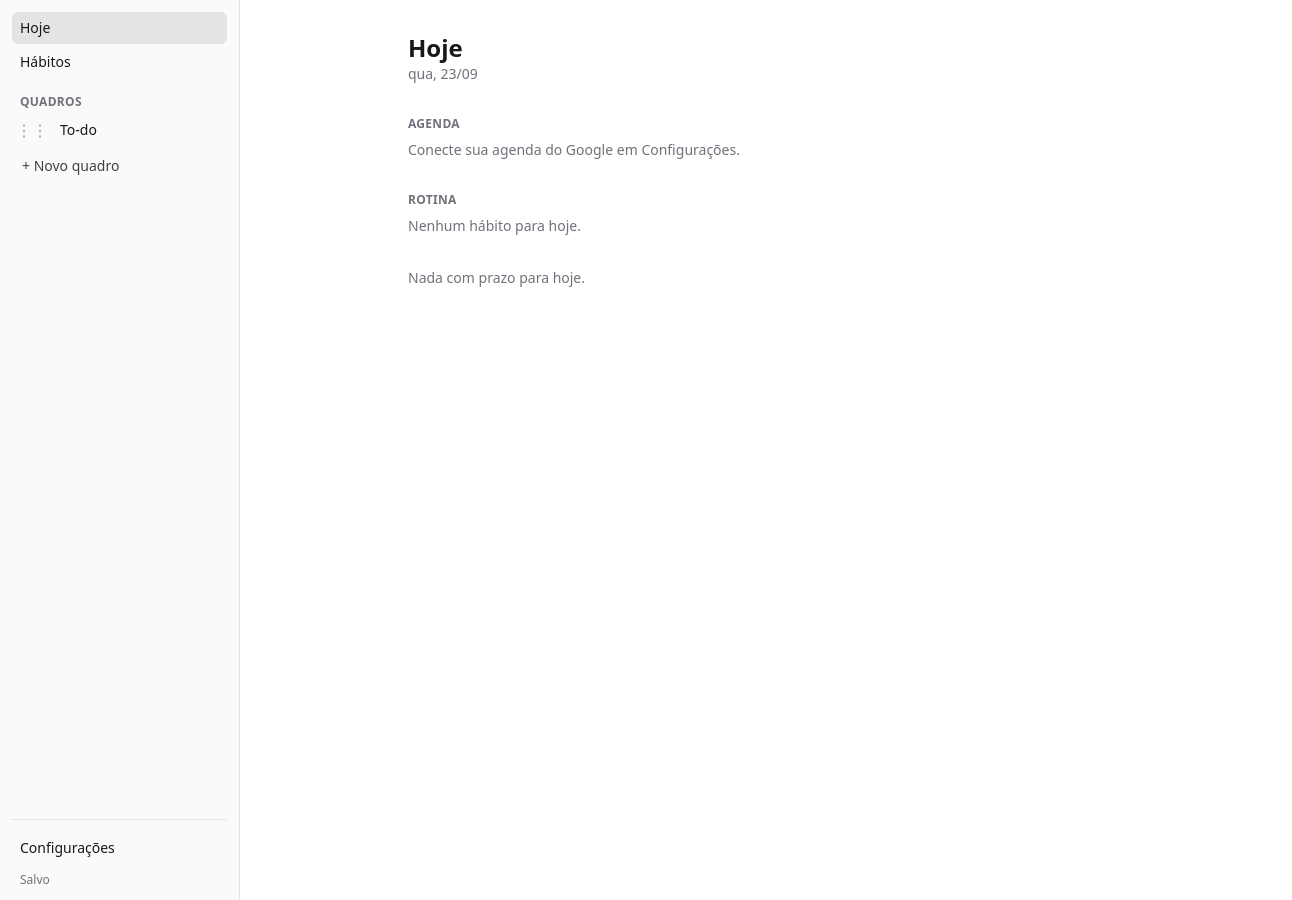
Shell › cria um quadro pela barra lateral e abre
The image size is (1292, 900).
Click the button "+ Novo quadro": (120, 166) [12,150,227,182]
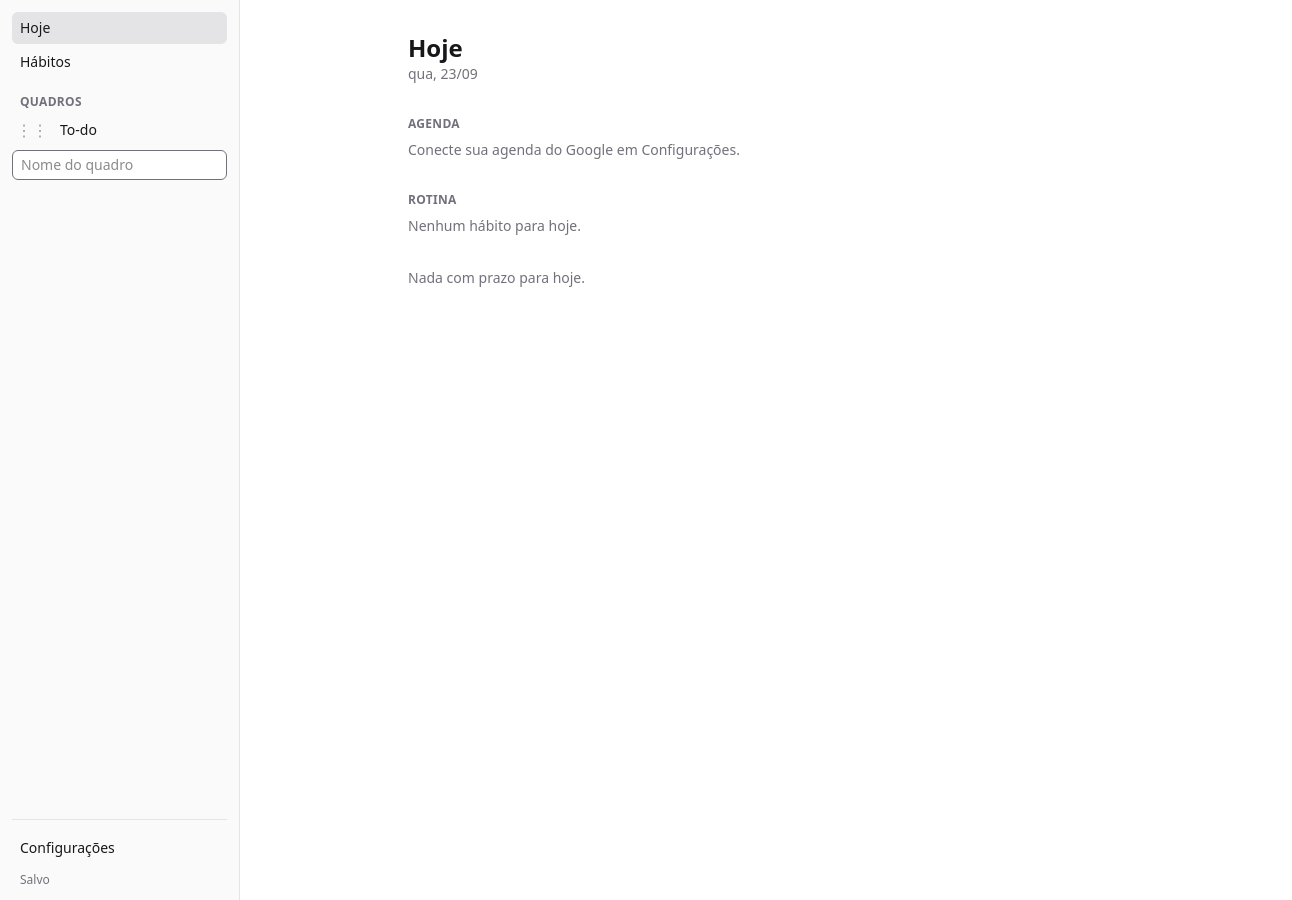
In the field named "Nome do novo quadro": (120, 165) [12,150,227,180], type "Casa"
Then press Enter
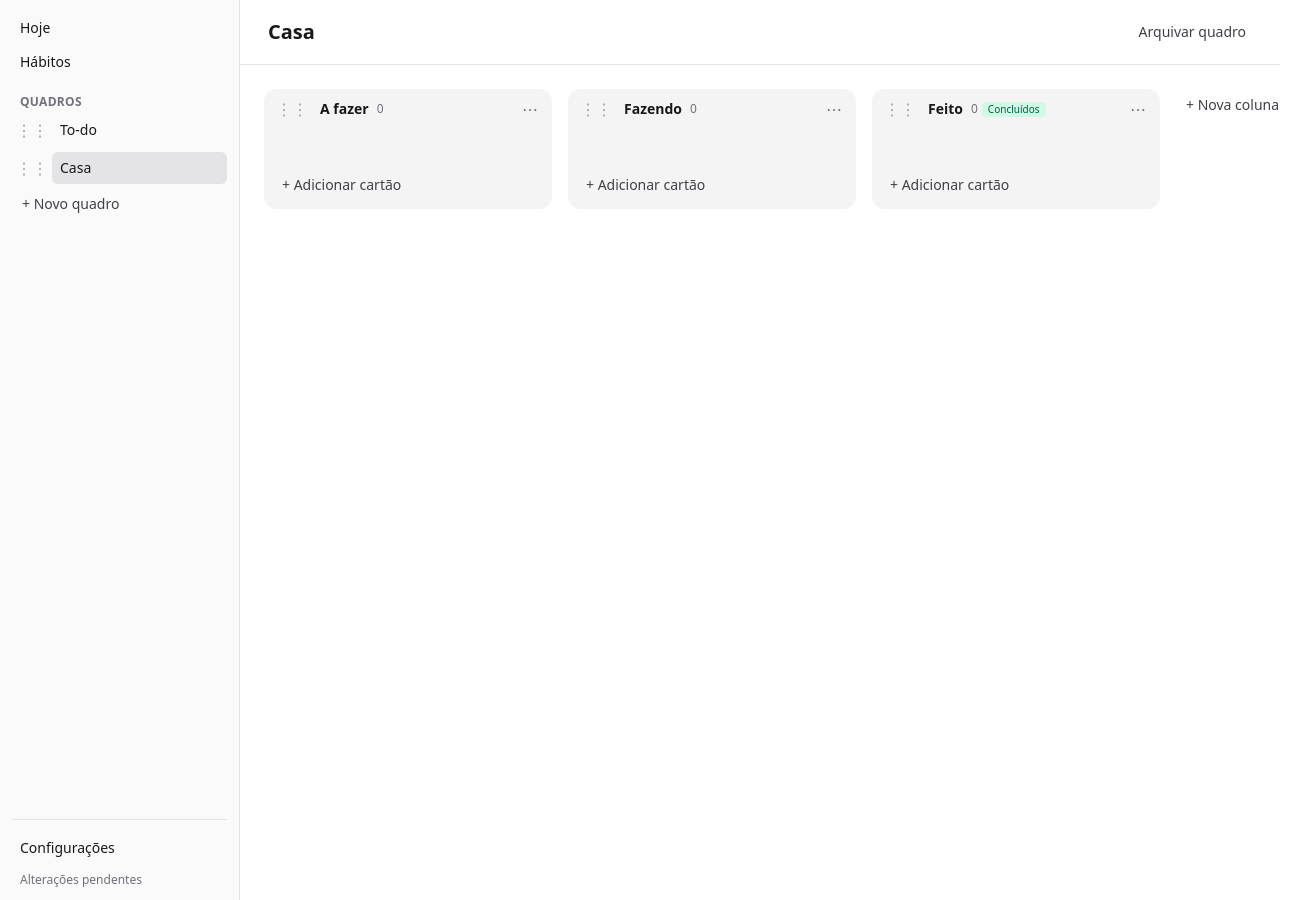
Now the button "Casa" below "Quadros" is shown, box [52,152,227,184]
Now the element named "Coluna A fazer" is shown, box [264,89,552,209]
